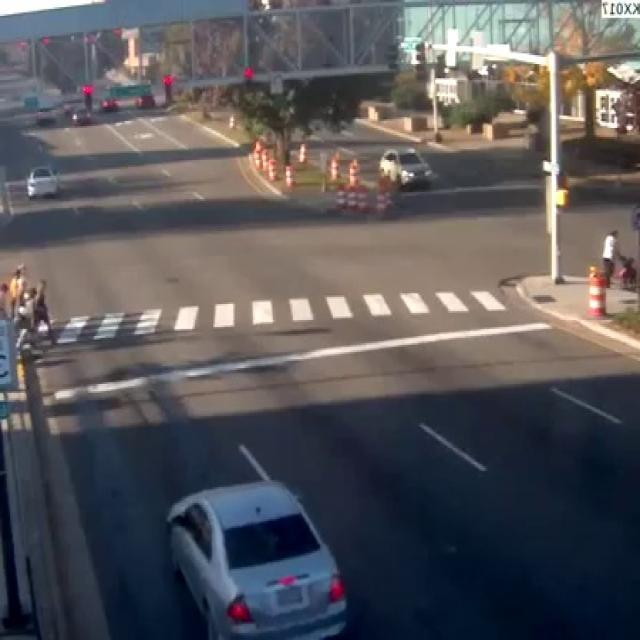car: (166, 445, 344, 636), (377, 146, 432, 185), (27, 164, 56, 196)
red_light: (160, 73, 174, 103), (79, 81, 92, 110), (240, 64, 253, 80)
stop_line: (48, 320, 548, 402)
